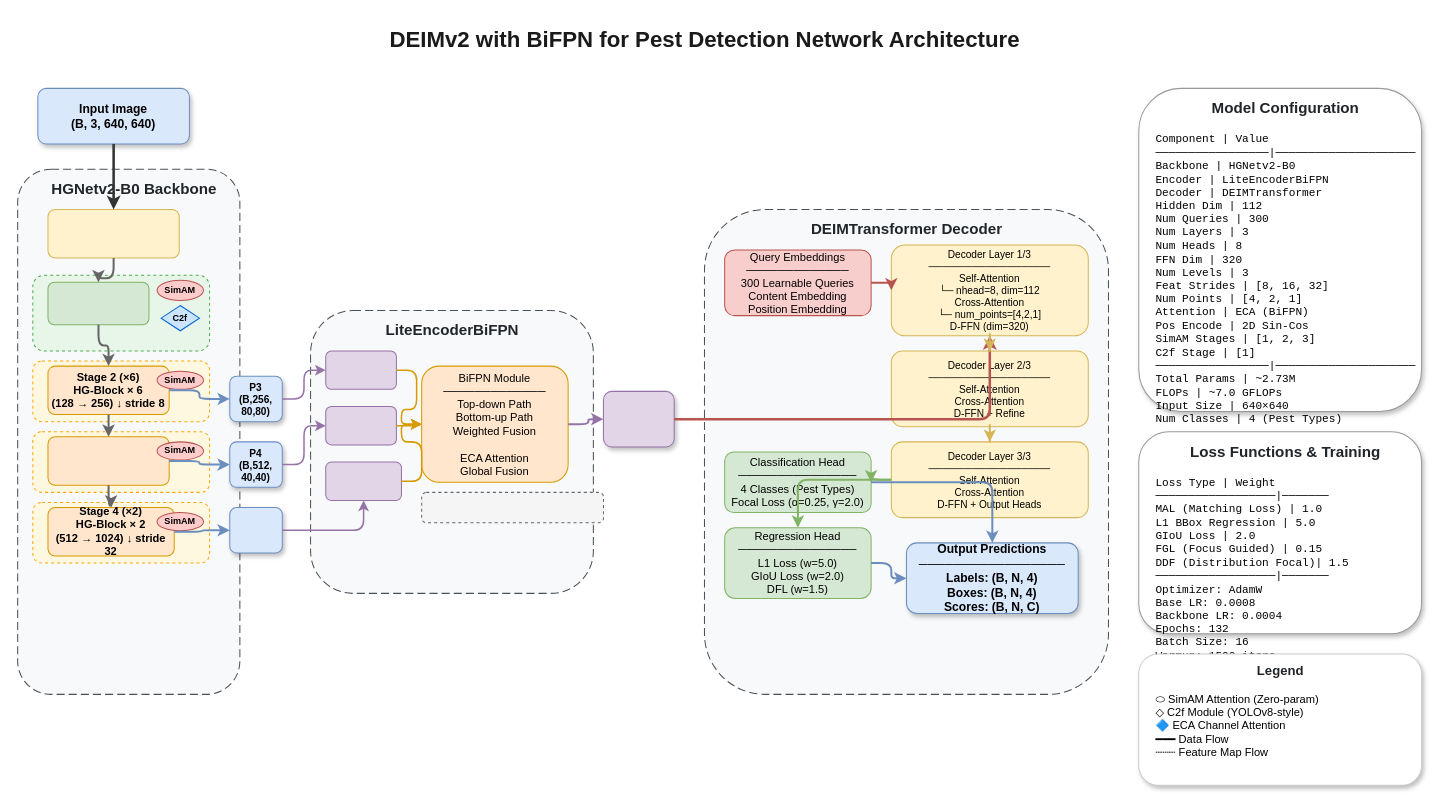
The diagram is 1445 pixels wide and 810 high, and some of its shapes have lost their labels. Here are the shapes that lost their labels. From the top down, the centre of each, then its label:
At (x=113, y=233): "Stem Block Conv 3×3 + BN + SiLU (3 → 48 → 96)".
At (x=98, y=303): "Stage 1 (×6) HG-Block × 6 (96 → 128)".
At (x=360, y=369): "Proj P3 256→112".
At (x=360, y=425): "Proj P4 512→112".
At (x=639, y=420): "Encoded Features (B, 3, C, H, W)".
At (x=108, y=460): "Stage 3 (×5) HG-Block × 5 (256 → 512) ↓ stride 16".
At (x=363, y=480): "Proj P5 1024→112".
At (x=512, y=507): "2D Sin-Cos Position Encoding pe_temperature=10000".
At (x=256, y=531): "P5 (B,1024, 20,20)".
